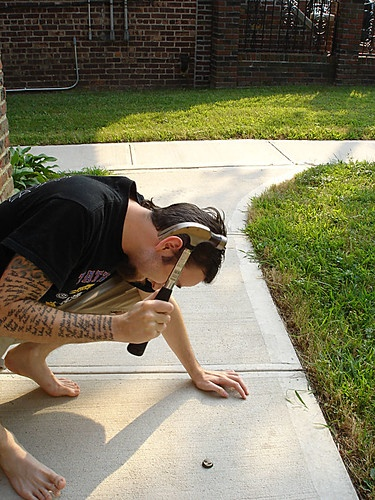hammer: (129, 220, 226, 359)
